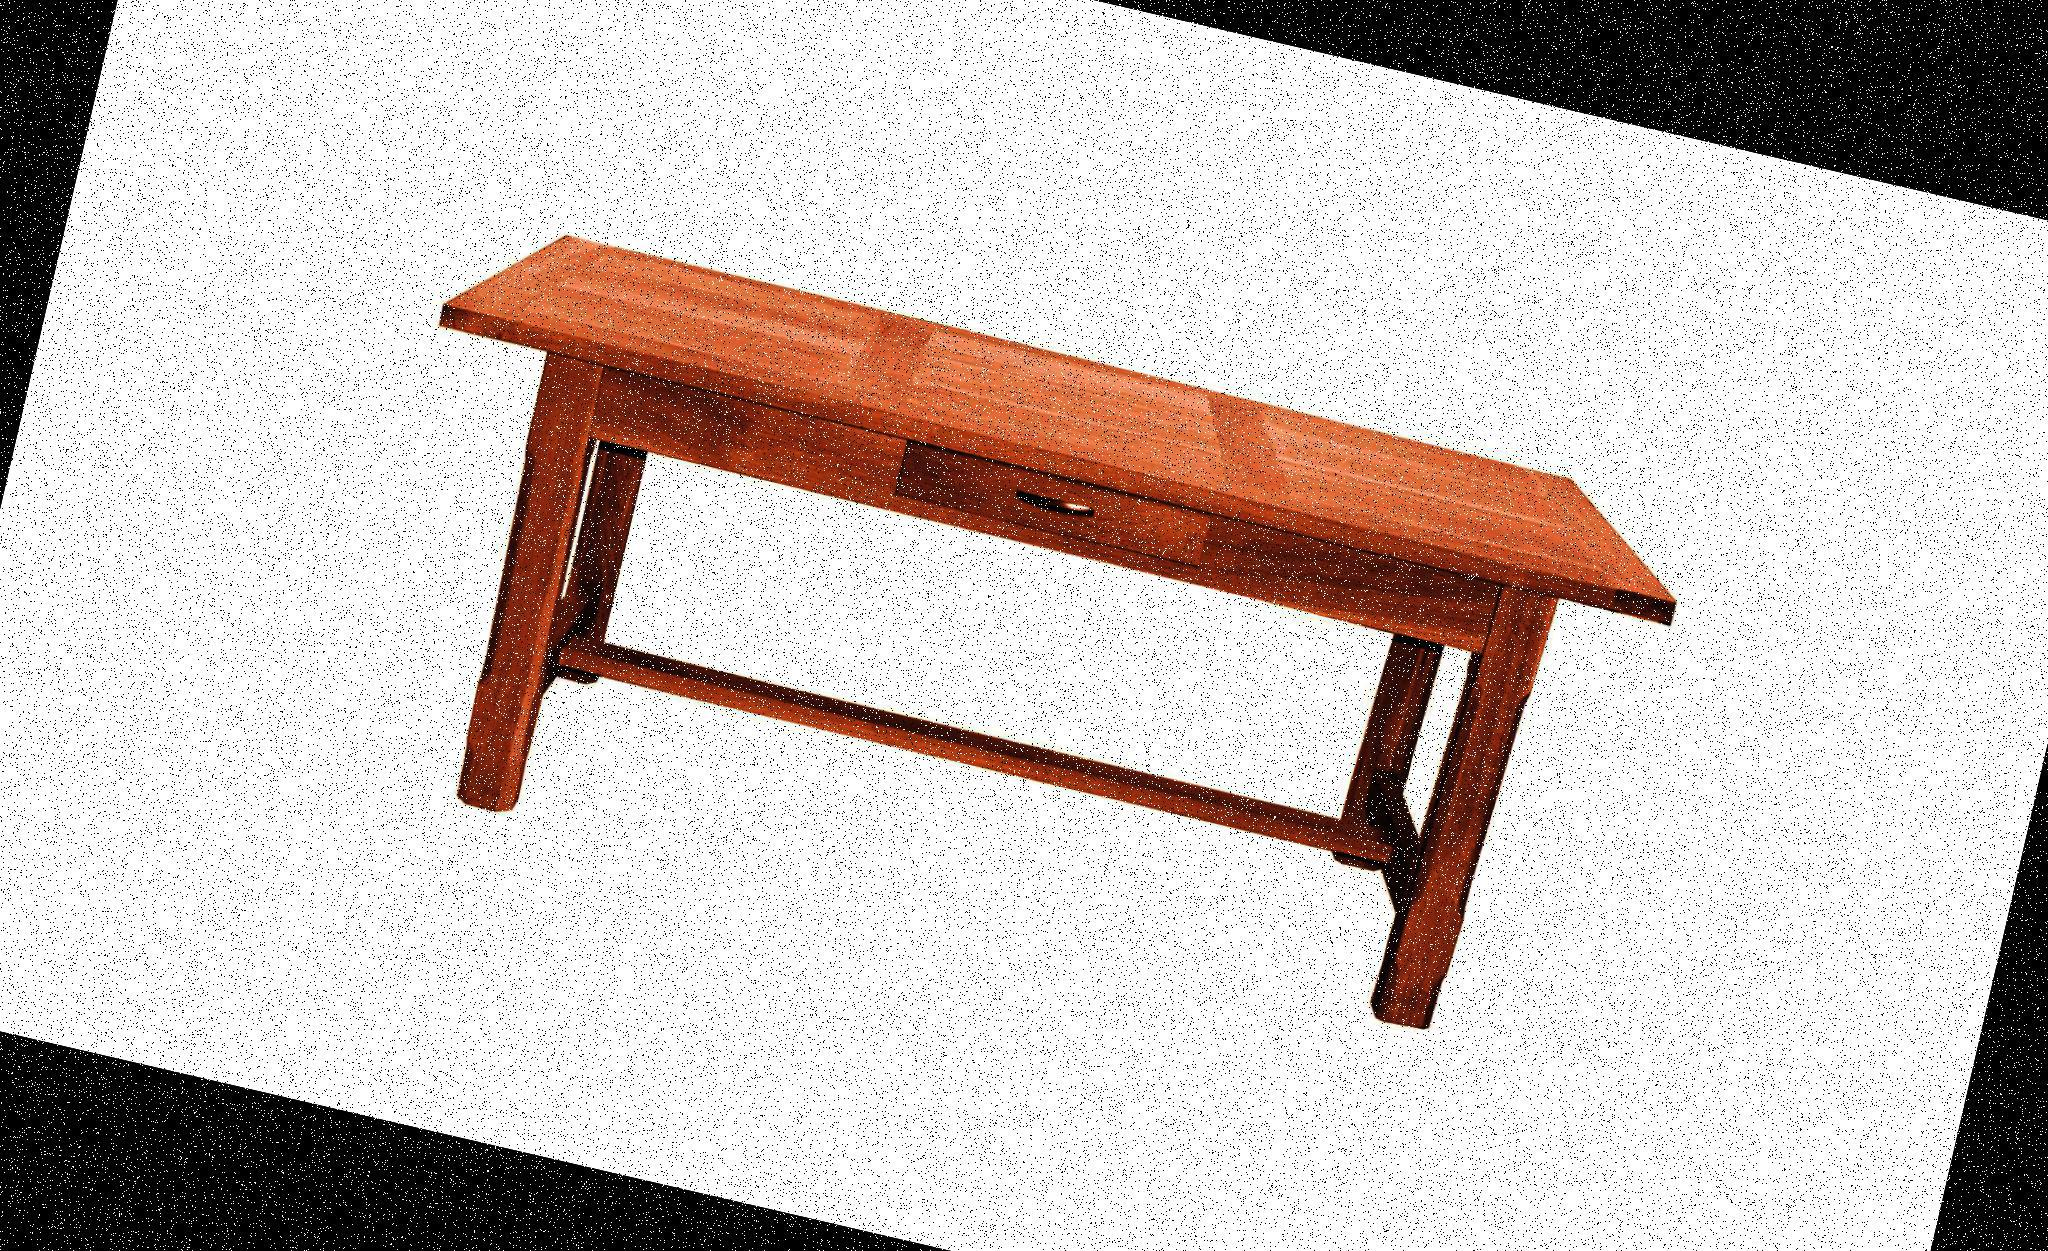Mesa: (351, 217, 1694, 1062)
